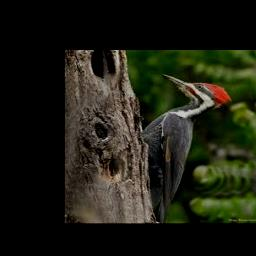Woodpecker: (141, 74, 231, 223)
